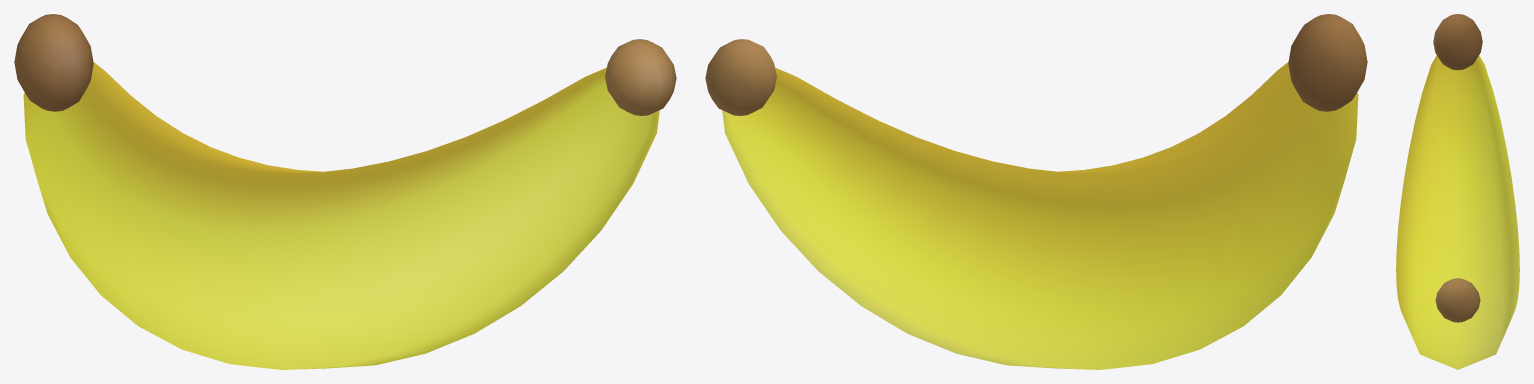
File: pickup.glb
3 views of the same model, side by side, from view 1: azimuth 30°, elevation 25°; view 2: azimuth 150°, elevation 25°; view 3: azimuth 270°, elevation 25° (orthographic). The views are drawn at different scales.
Size of the model in its own units: 0.25 by 0.1539 by 0.0709.
